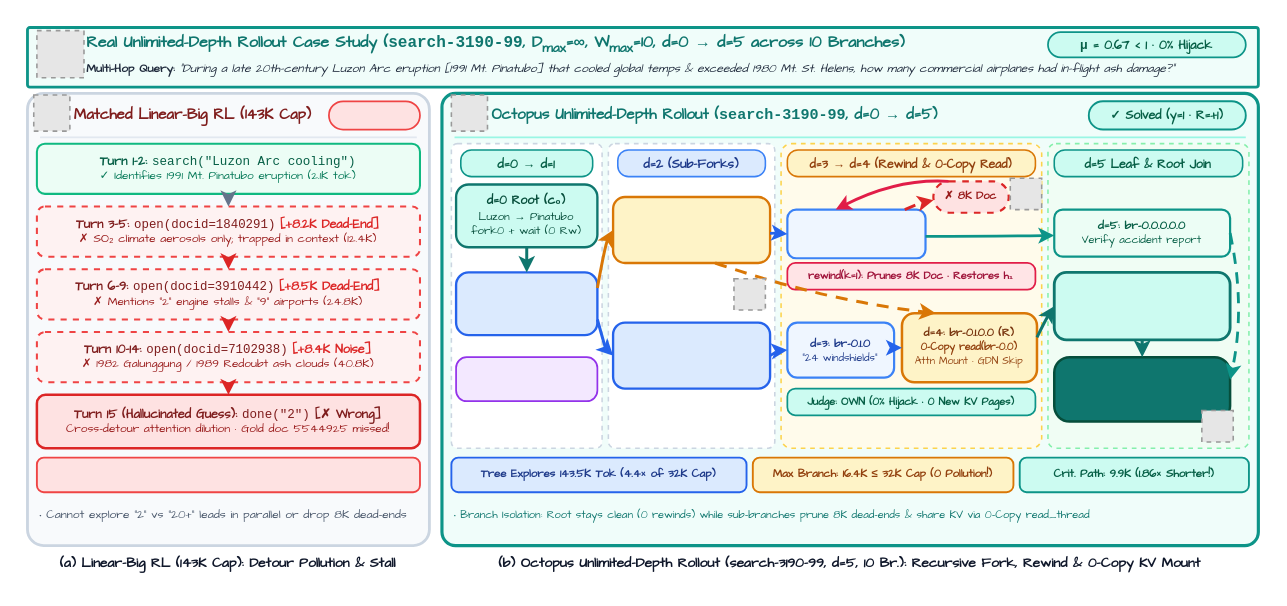
This 1287x606 diagram has some shape labels left out. Grey dashed boxes stand in for pictures. Each missing label, with the centre of its shape:
1 Thread Accumulates 40.8K Noisy Tok · 21.1% Gold Recall: point 227,474
Clean Root Orchestrator Root Rewind: 0 (↓2.9×): point 526,378
d=1: branch-0 Pinatubo 1991 ash → sub-fork(0.0, 0.1): point 526,303
d=2: branch-0.0 (S) search("1991 aircraft accident") [KV Pages K S ]: point 691,229
d=2: branch-0.1 search("Pinatubo Boeing airplanes ash"): point 691,355
d=3..4: br-0.0.0 Tests "2" windshields: point 855,233
d=5: br-0.1.0.0.0 ★ open(docid=5544925) ✓ Gold USGS Report Hit!: point 1141,305
Root c join → done ★ Close Remind (m=0 · 97.4%) Verified Answer · R = +1: point 1141,388
✗ Fails (y=0): point 373,115
